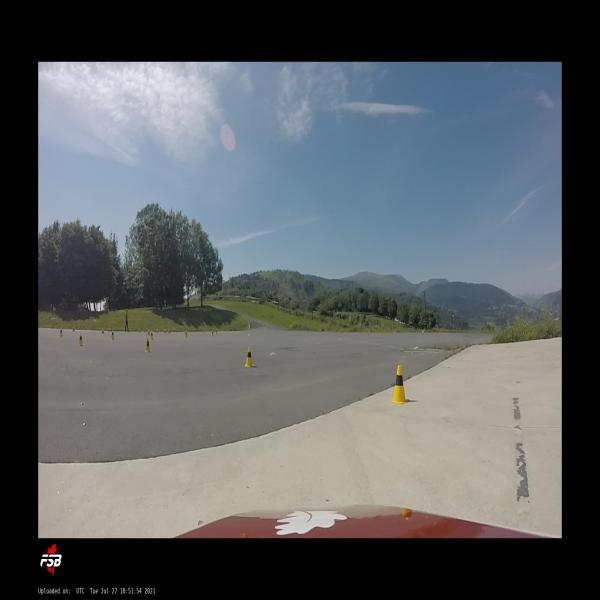orange_cone: (148, 328, 150, 336), (73, 324, 75, 332), (102, 327, 104, 334), (168, 328, 170, 334)
yellow_cone: (390, 366, 410, 404), (244, 347, 254, 367), (145, 337, 151, 353), (79, 334, 83, 346), (111, 330, 115, 340), (150, 331, 154, 340), (184, 330, 188, 339), (60, 328, 63, 336), (211, 330, 213, 336)
